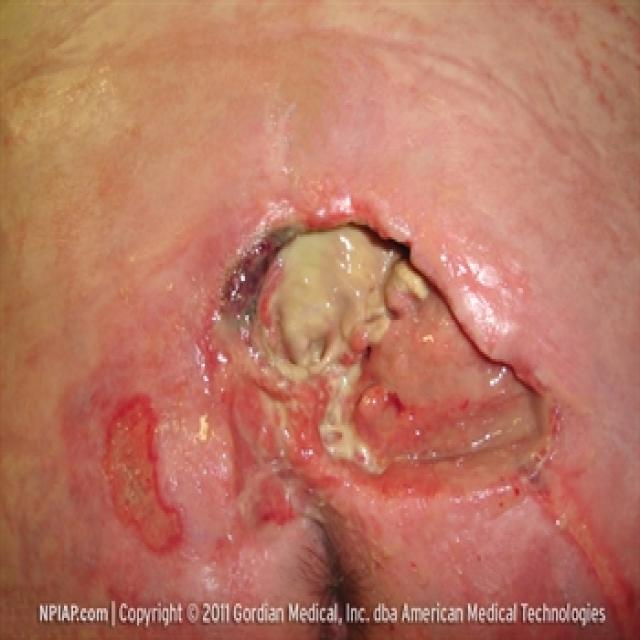stage-2: (112, 403, 181, 552)
stage-4: (203, 221, 555, 514)
